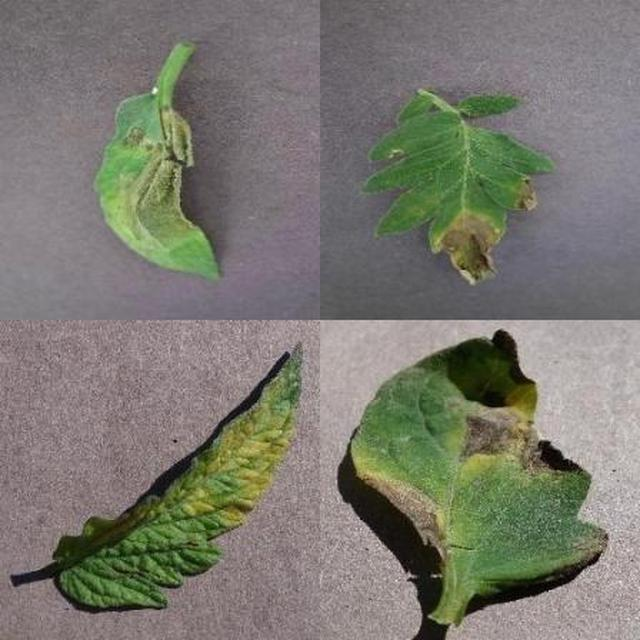Late Blight Leaf: (190, 266, 640, 640)
